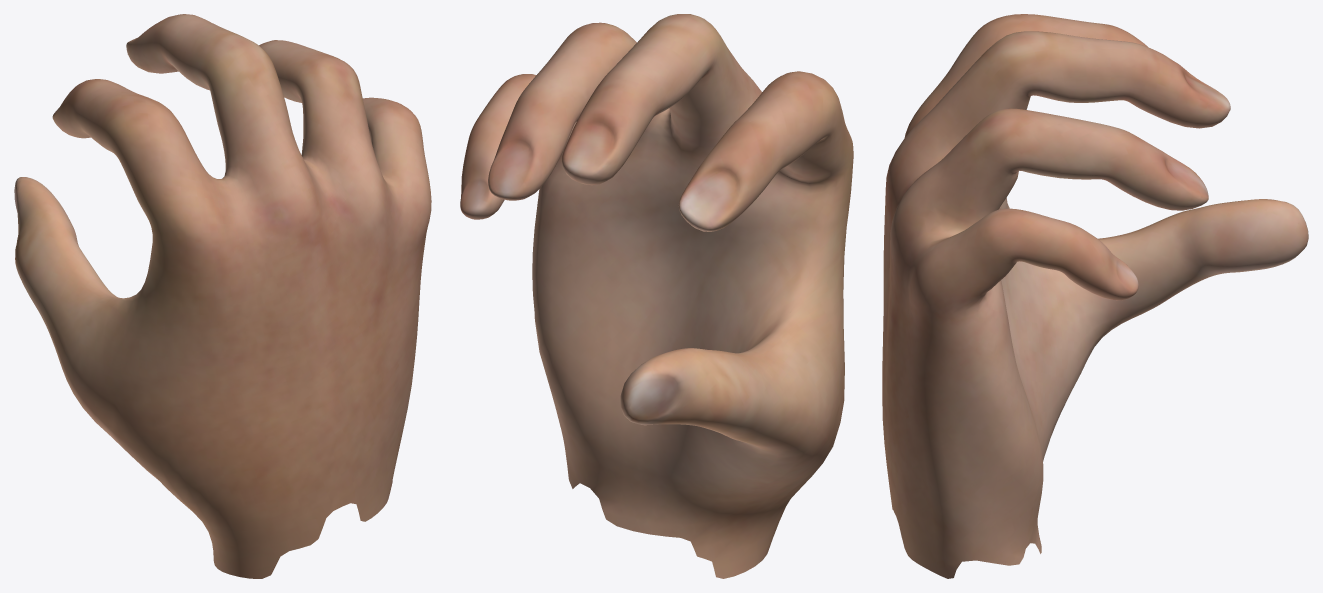
Rendered from player-hand-grip.glb.
3 renders of one model, left to right at view 1: azimuth 30°, elevation 25°; view 2: azimuth 150°, elevation 25°; view 3: azimuth 270°, elevation 25°, orthographic. The views are drawn at different scales.
Parts seen in each view (by area): view 1: player-hand-grip.001; view 2: player-hand-grip.001; view 3: player-hand-grip.001.
Boxes of the visible parts, <box> form: player-hand-grip.001: <box>14,14,431,578</box>; player-hand-grip.001: <box>460,14,853,578</box>; player-hand-grip.001: <box>882,14,1308,578</box>.
Bounding box in the file's own units: 0.0909 × 0.1384 × 0.1006.
1 material, 1 textured.
